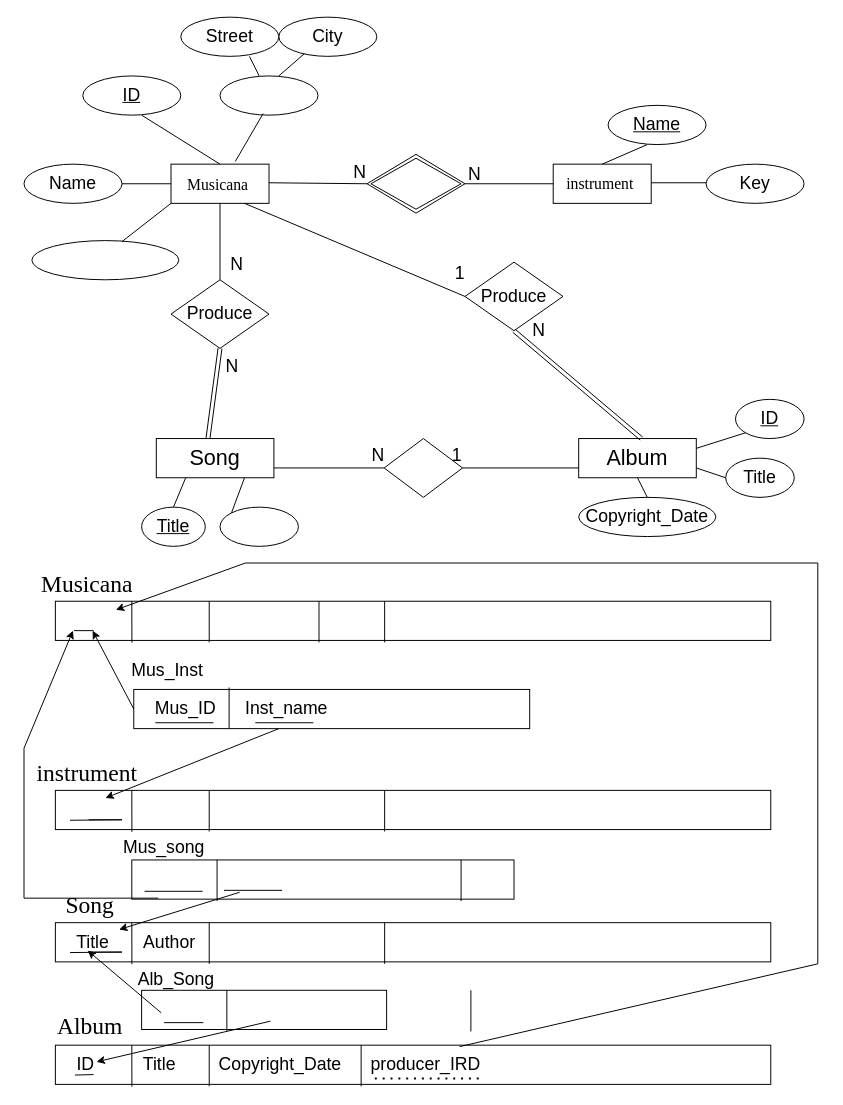
Some shapes in this 843 by 1105 pixel diagram are drawn without their labels. Here are the shapes that lost their labels. From the top down, the centre of each, then its label:
At point (268, 95): "Address".
At point (415, 183): "Play".
At point (105, 260): "PhoneNumber".
At point (423, 467): "Has".
At point (258, 526): "Author".
At point (412, 620): "ID Name Phone City Street".
At point (412, 809): "Name Key".
At point (322, 879): "Mus_ID Title".
At point (264, 1009): "Title Alb_ID".
